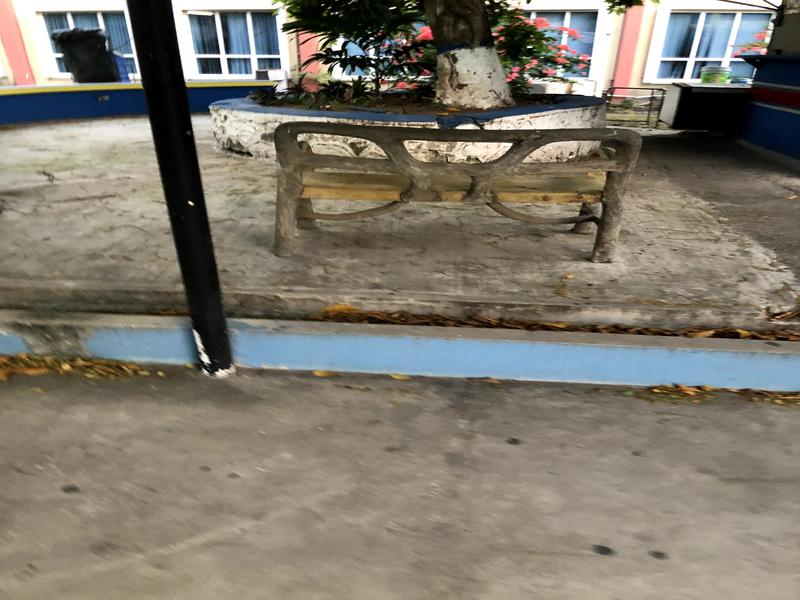18.0050864_-76.7496363_bench: (266, 109, 645, 279)
